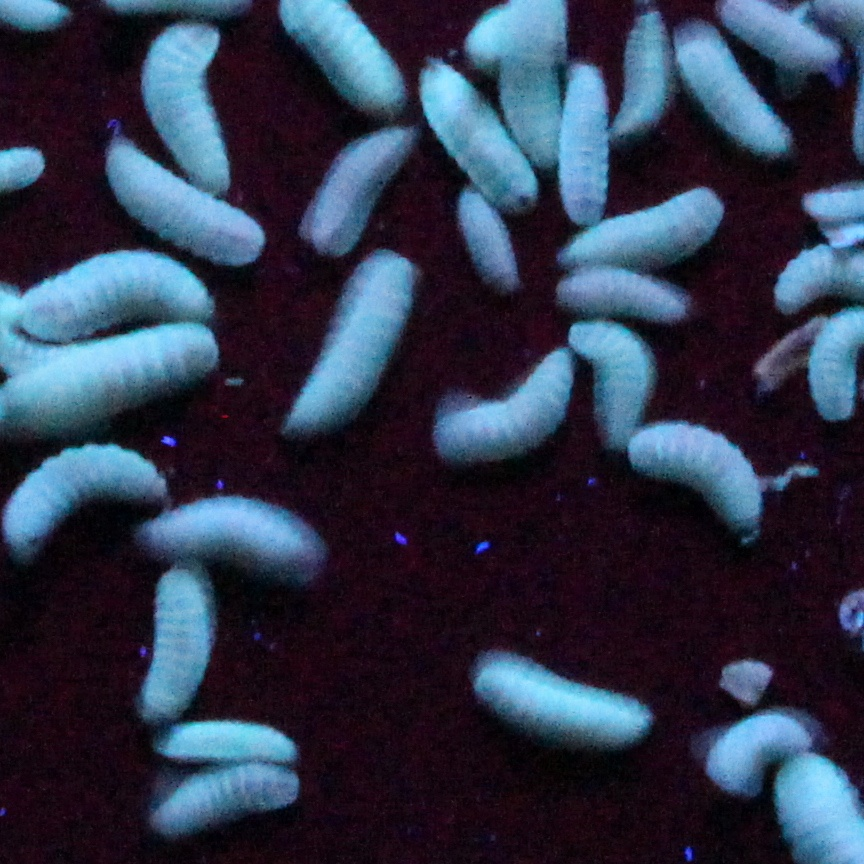larve: (277, 245, 411, 425), (5, 322, 225, 425), (100, 137, 259, 268), (2, 442, 165, 554), (422, 65, 537, 194), (491, 657, 637, 757), (634, 434, 779, 531), (562, 194, 725, 268), (134, 562, 214, 711), (148, 511, 319, 580), (442, 357, 571, 448), (685, 34, 791, 142), (145, 37, 220, 188), (571, 322, 654, 440), (554, 62, 614, 217), (154, 777, 308, 837), (605, 14, 677, 137), (694, 720, 814, 777), (162, 722, 299, 760), (565, 274, 688, 314), (465, 200, 519, 277)
